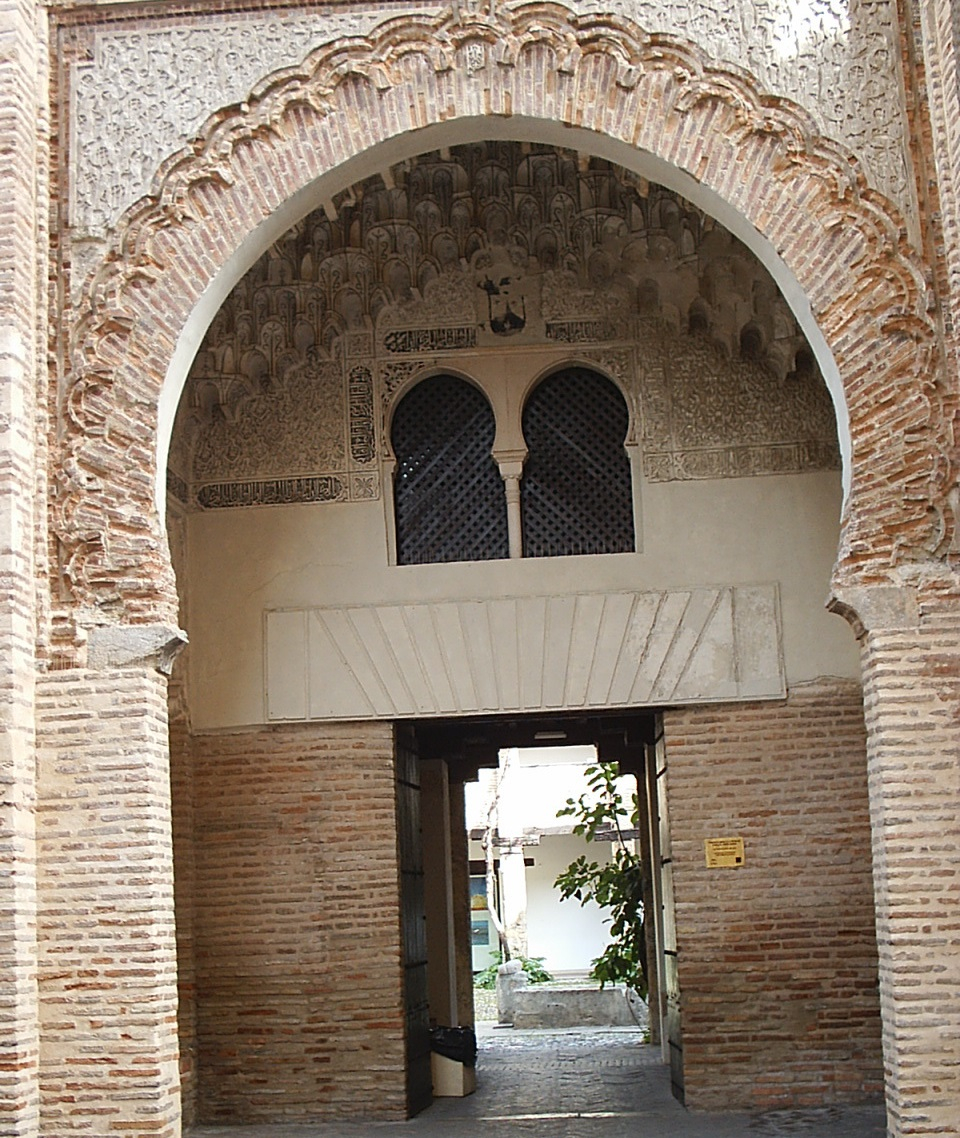arco-herradura: (106, 82, 901, 715), (381, 357, 510, 480), (513, 354, 639, 472)
dintel-adovelado: (306, 584, 759, 717)
